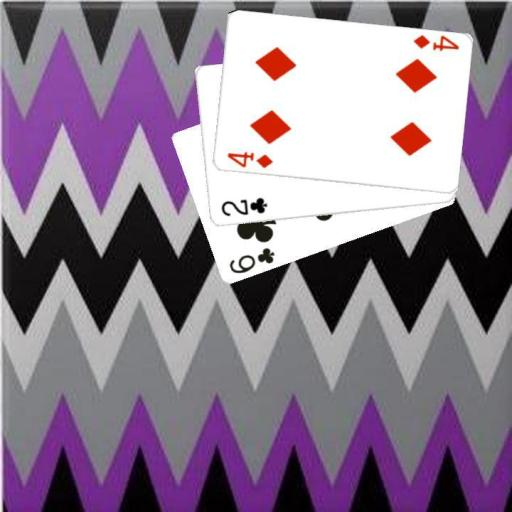2C: (218, 195, 268, 218)
4D: (410, 32, 460, 54), (223, 149, 274, 170)
6C: (225, 245, 276, 276)
